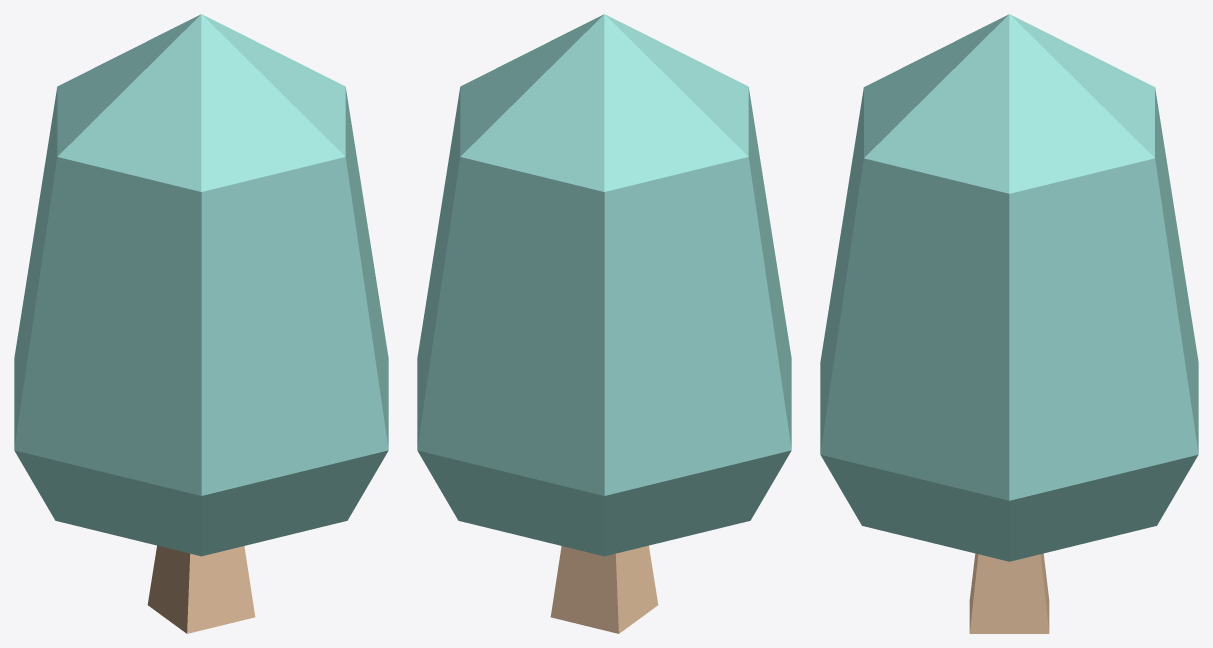
The model's file is tree_short.glb.
3 renders of one model, left to right at view 1: azimuth 30°, elevation 25°; view 2: azimuth 150°, elevation 25°; view 3: azimuth 270°, elevation 25°, orthographic.
Visible parts, largest first — view 1: tree_short; view 2: tree_short; view 3: tree_short.
Boxes of the visible parts, bbox=[...] form: tree_short: bbox=[14, 14, 388, 633]; tree_short: bbox=[417, 14, 791, 633]; tree_short: bbox=[820, 14, 1198, 633].
Bounding box in the file's own units: 0.755 × 1.15 × 0.6538.
